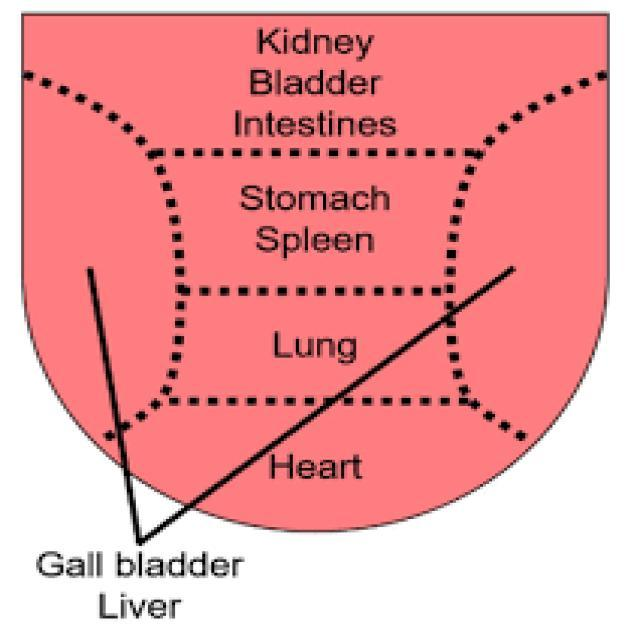discolored_patch: (21, 17, 610, 533)
